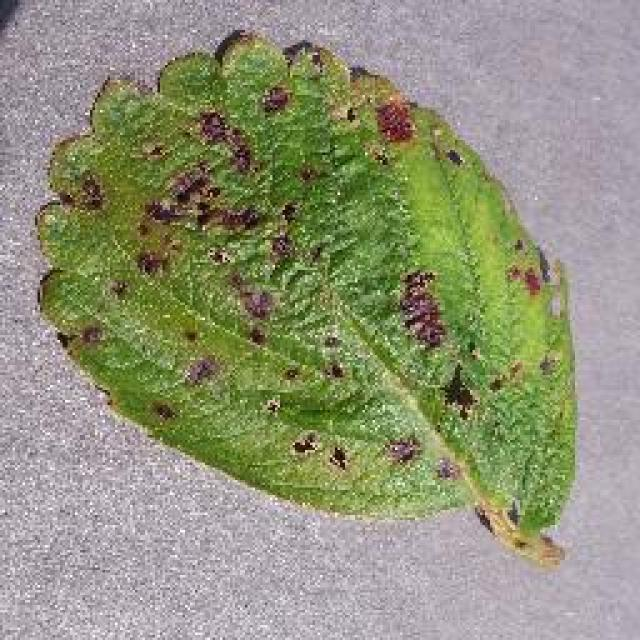Strawberry leaf scorch: (82, 93, 510, 482)
